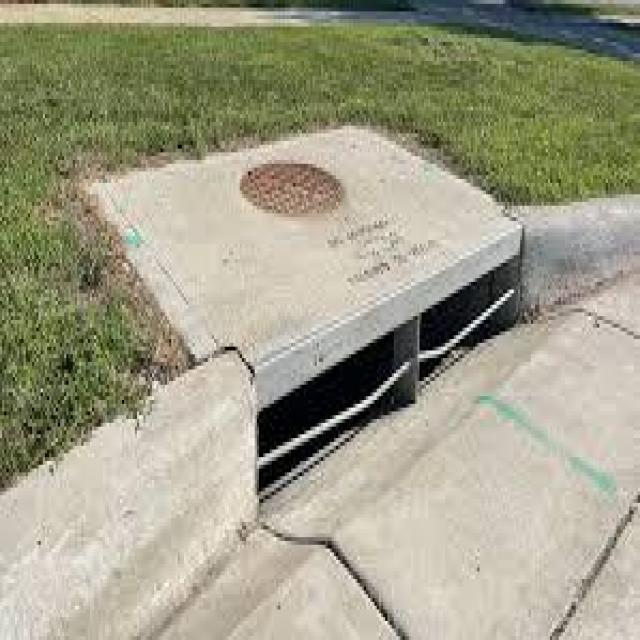curb: (2, 326, 242, 634), (257, 240, 450, 509), (468, 180, 638, 346)
